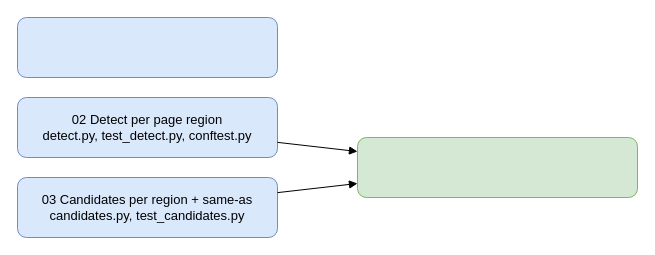
Image size: 655x255. Some labels were removed from this diagram. Here are the shapes that lost their labels. From the top down, the box of each, then its label:
(16, 16, 278, 78): 01 Test .mkv input tests/test_mkv.py
(356, 136, 638, 198): 04 Score mode in SKILL.md + Metal eval SKILL.md, docs, test_score_pipeline.py
